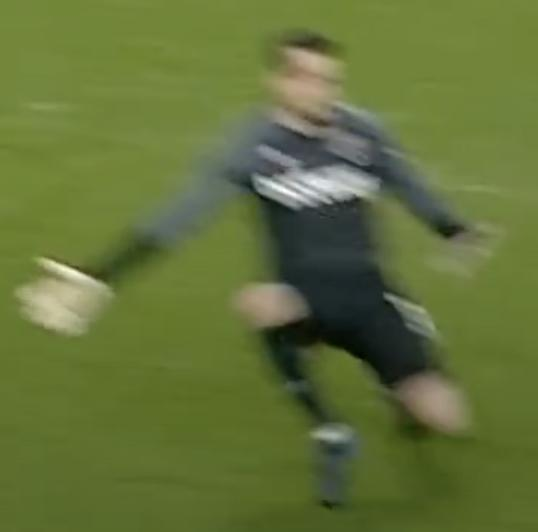goalkeeper: (16, 9, 537, 532)
